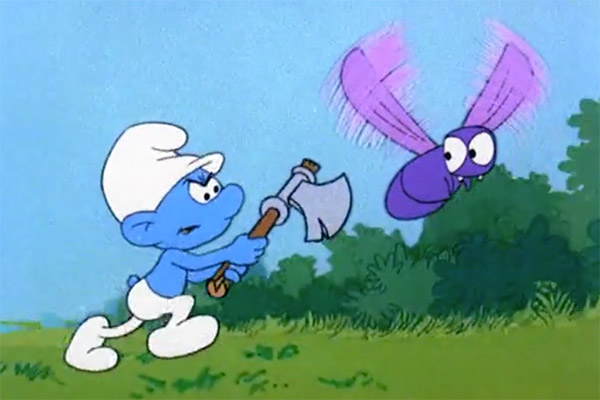smurf: (62, 120, 269, 374)
